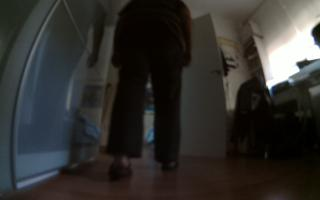person: (100, 1, 195, 184)
